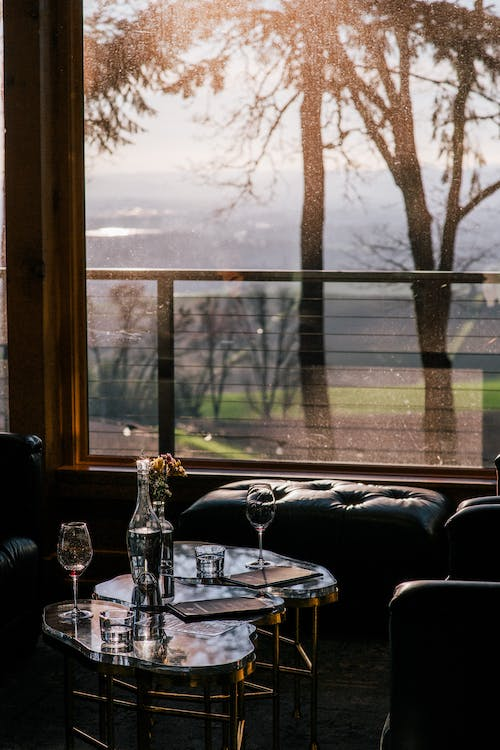alcohol: (123, 458, 165, 587), (54, 520, 95, 622), (242, 481, 278, 571)
